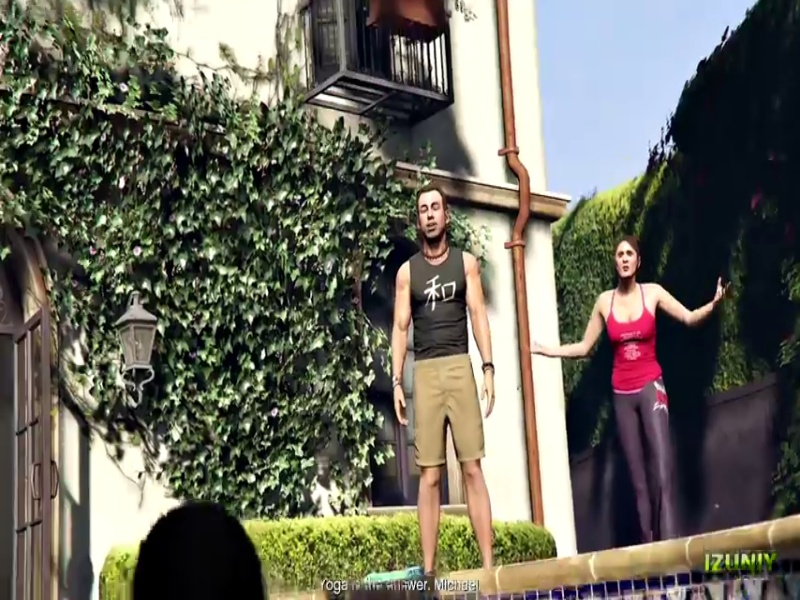human: (560, 220, 724, 554)
